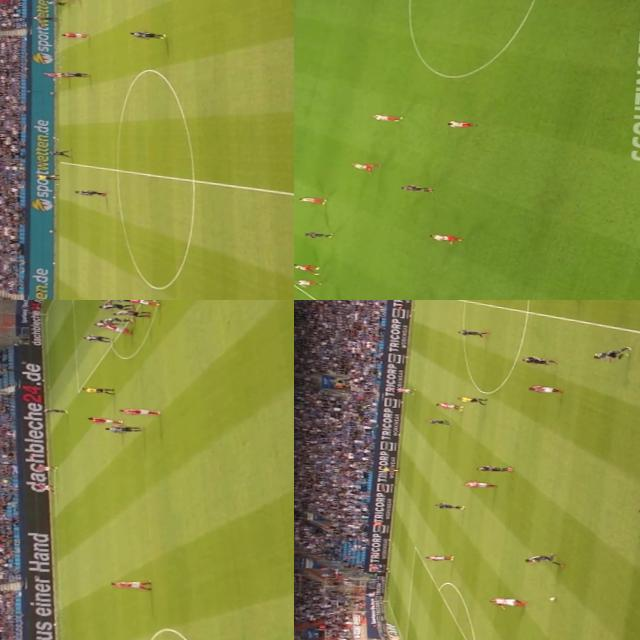ball: (545, 592, 560, 604), (32, 12, 40, 20), (51, 464, 59, 469)
player: (587, 342, 634, 363), (124, 28, 170, 42), (522, 549, 564, 564), (488, 594, 532, 608), (109, 576, 150, 590), (475, 462, 514, 475), (459, 476, 496, 489), (368, 110, 404, 122), (104, 422, 140, 434), (433, 499, 464, 512), (83, 414, 122, 424), (424, 551, 456, 563), (426, 232, 464, 242), (101, 313, 130, 326), (397, 183, 433, 193), (114, 308, 150, 318), (520, 354, 556, 364), (72, 187, 110, 196), (39, 68, 73, 78), (454, 328, 488, 338), (350, 159, 377, 171), (100, 300, 127, 312), (58, 68, 90, 78), (57, 29, 89, 39), (445, 118, 477, 128), (528, 384, 560, 394), (119, 406, 157, 414), (303, 228, 332, 238), (298, 195, 327, 205), (431, 401, 465, 409), (294, 262, 319, 272), (31, 480, 56, 490), (79, 334, 109, 342), (426, 415, 450, 425), (42, 148, 70, 156), (392, 383, 416, 392), (106, 324, 130, 332), (94, 320, 118, 328), (294, 279, 322, 285), (38, 406, 62, 413), (36, 462, 54, 470), (42, 0, 65, 6), (39, 14, 61, 20), (125, 300, 159, 303)
